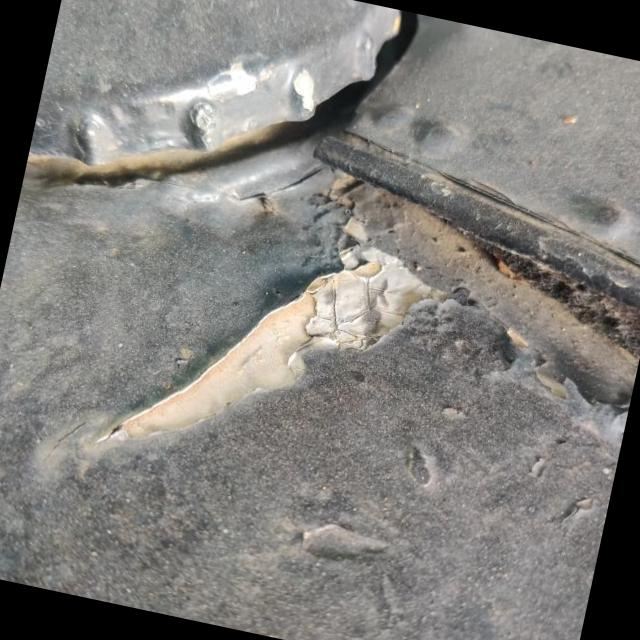Paint-off: (87, 249, 439, 457)
